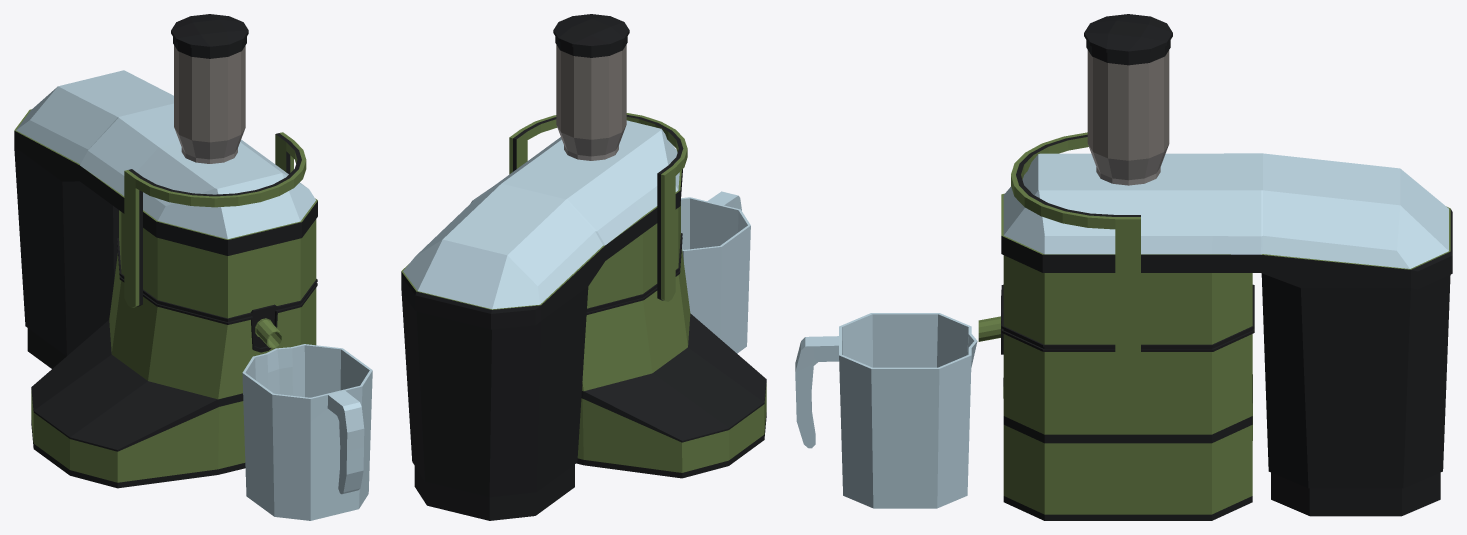
Rendered from juicermodern_01_B.gltf.
The picture shows the model from 3 angles, left to right: view 1: azimuth 30°, elevation 25°; view 2: azimuth 150°, elevation 25°; view 3: azimuth 270°, elevation 25°; orthographic projection. The views are drawn at different scales.
Visible parts, largest first — view 1: juicermodern_01_B, Glassforjuicermodern_01_B; view 2: juicermodern_01_B, Glassforjuicermodern_01_B; view 3: juicermodern_01_B, Glassforjuicermodern_01_B.
Boxes of the visible parts, box(x1,y1,x2,y2) form: juicermodern_01_B: box(14, 14, 317, 488); Glassforjuicermodern_01_B: box(242, 344, 372, 520); juicermodern_01_B: box(401, 14, 766, 520); Glassforjuicermodern_01_B: box(681, 191, 750, 353); juicermodern_01_B: box(978, 14, 1452, 520); Glassforjuicermodern_01_B: box(795, 313, 977, 508).
Bounding box in the file's own units: 0.3298 × 0.5278 × 0.694.
1 material, 1 textured.
